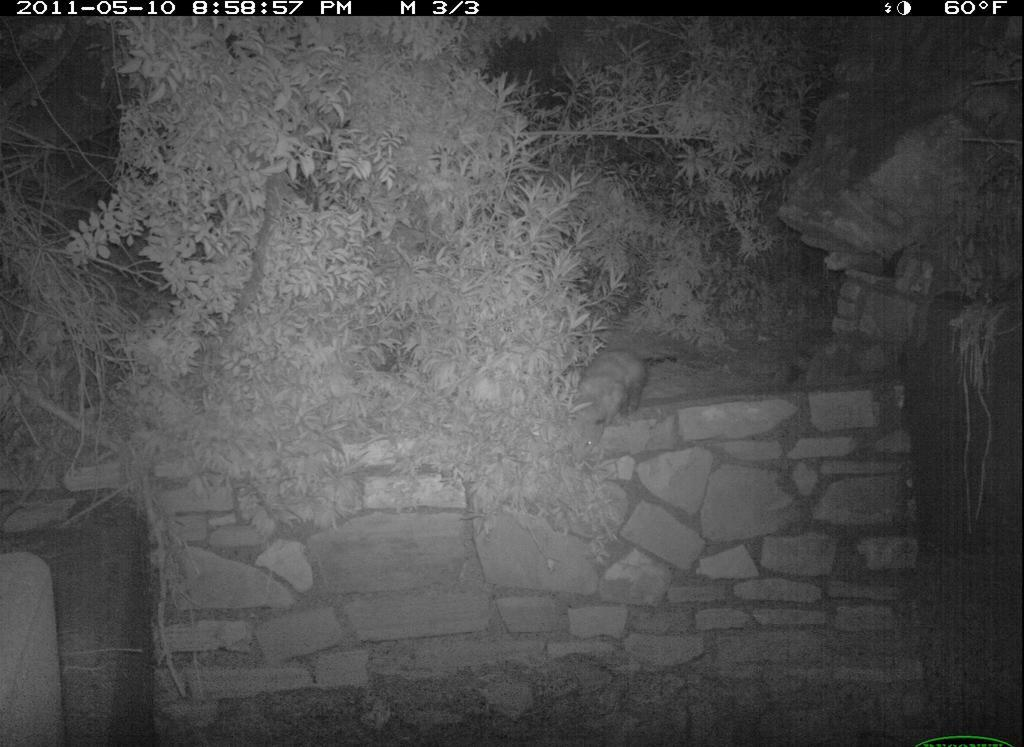opossum: (564, 332, 669, 461)
